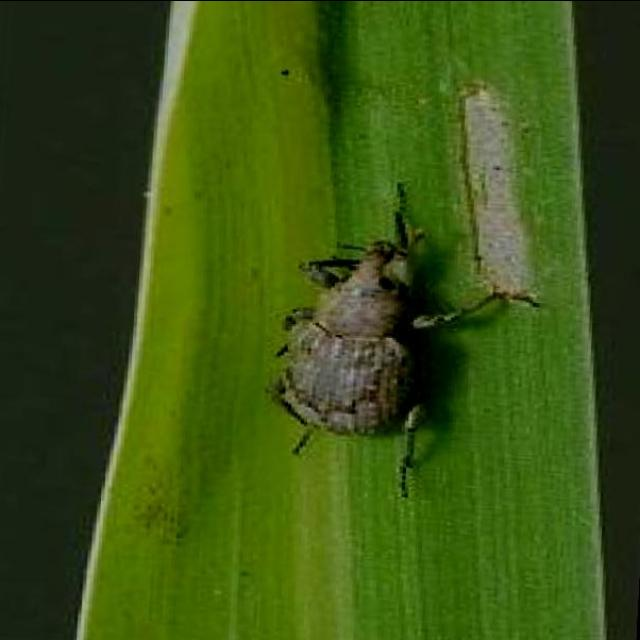ricebug: (266, 183, 529, 455)
